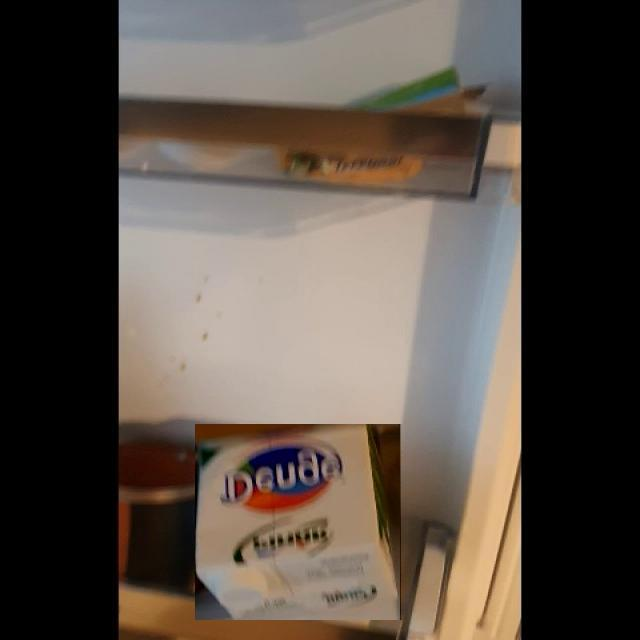Milk: (196, 424, 404, 620)
